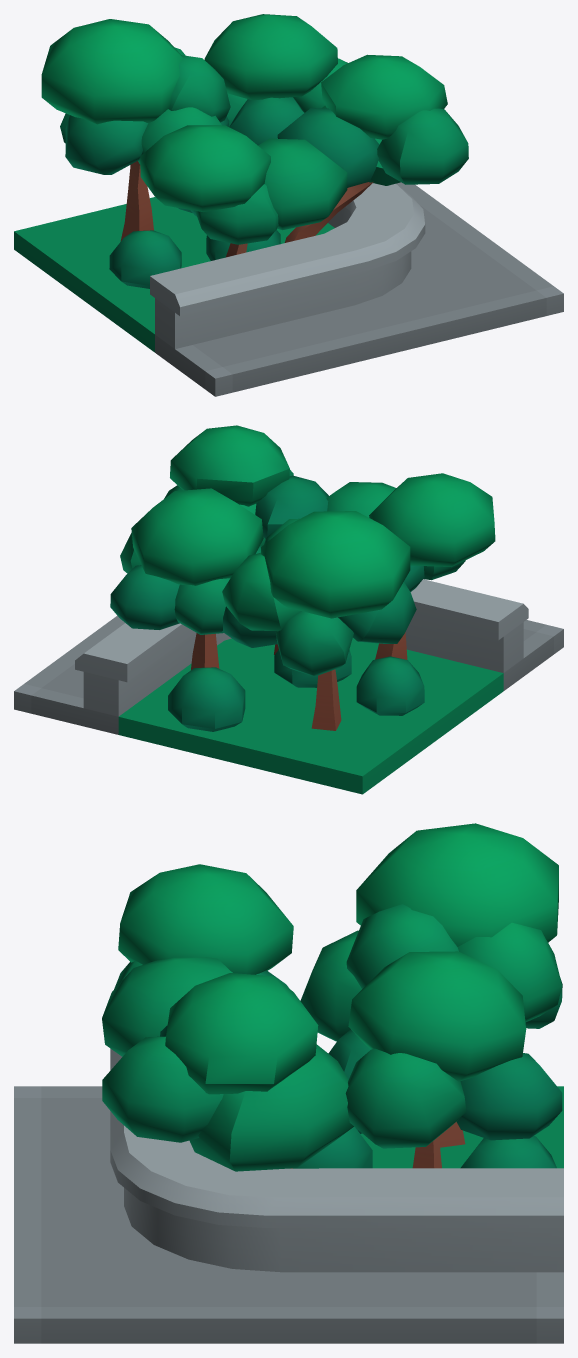
File: park_wall_outerCorner_decorated.glb
3 views of the same model, one above another, from view 1: azimuth 30°, elevation 25°; view 2: azimuth 150°, elevation 25°; view 3: azimuth 270°, elevation 25° (orthographic). The views are drawn at different scales.
Parts seen in each view (by area): view 1: park_wall_outerCorner_decorated; view 2: park_wall_outerCorner_decorated; view 3: park_wall_outerCorner_decorated.
Boxes of the visible parts, x1,y1,x2,y2 form: park_wall_outerCorner_decorated: (14,14,563,396); park_wall_outerCorner_decorated: (14,425,563,794); park_wall_outerCorner_decorated: (14,823,563,1343).
Size of the model in its own units: 2.01 by 1.28 by 2.
1 material, 1 textured.
